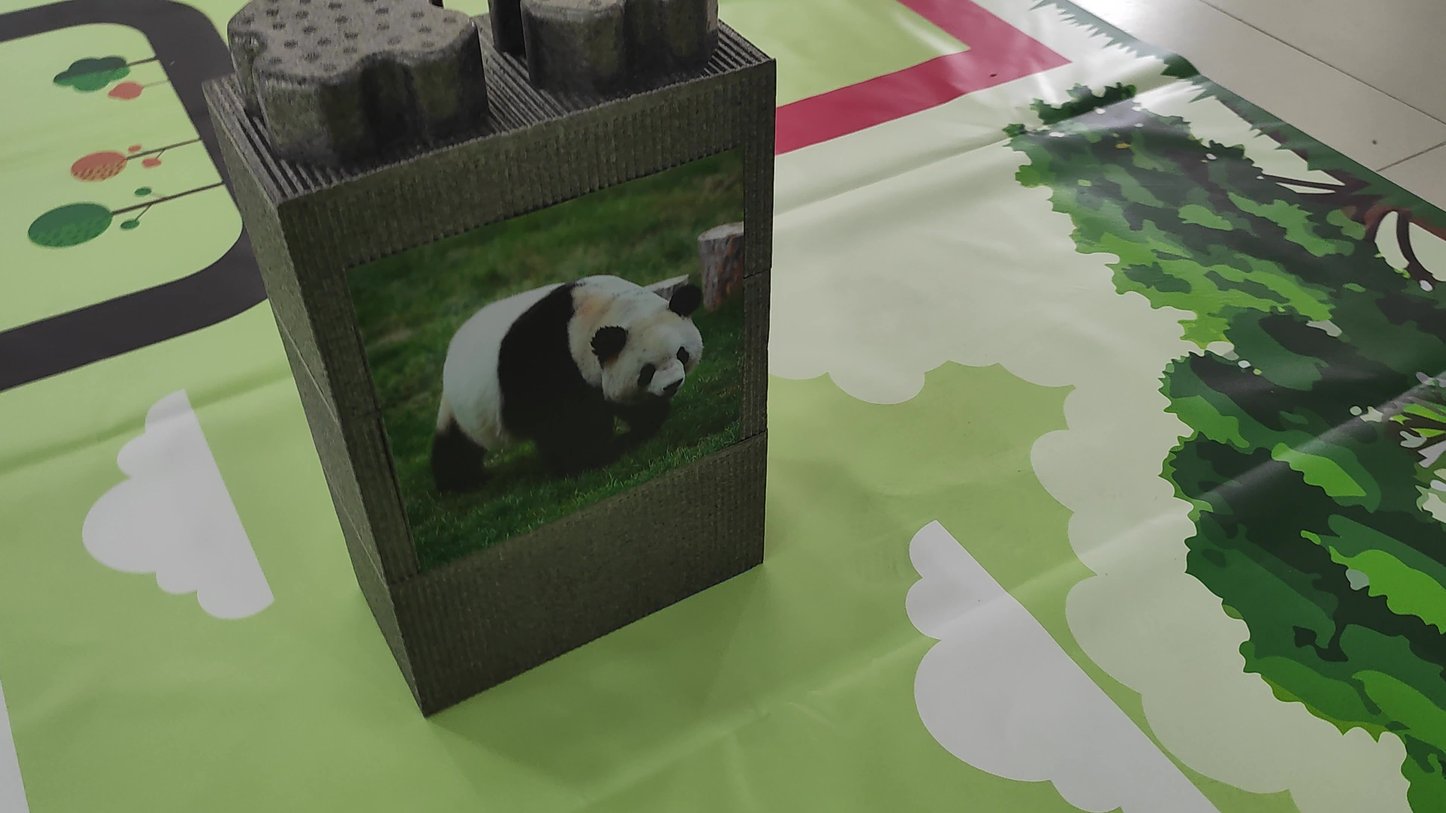panda: (429, 271, 723, 487)
